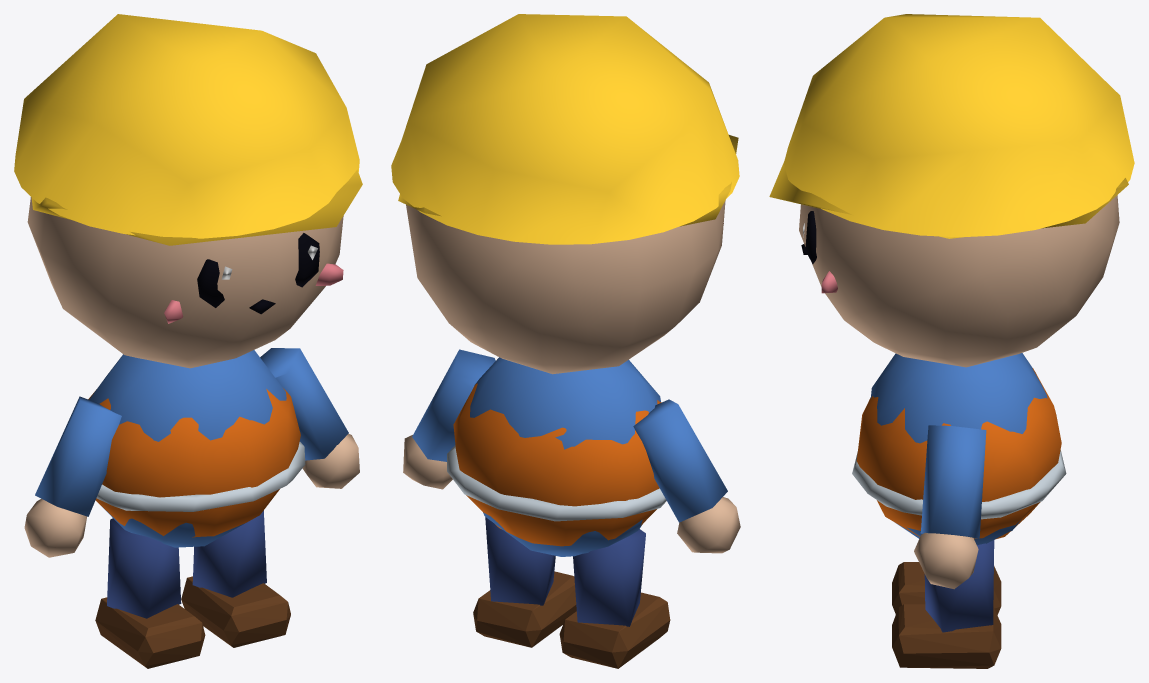
The model's file is worker-lod1.82e427fe.glb.
3 renders of one model, left to right at view 1: azimuth 30°, elevation 25°; view 2: azimuth 150°, elevation 25°; view 3: azimuth 270°, elevation 25°, orthographic.
Parts seen in each view (by area): view 1: Body__T_vcol, Hat__T_hat, Leg_R__T_vcol, Leg_L__T_vcol, Arm_R__T_vcol, Arm_L__T_vcol; view 2: Body__T_vcol, Hat__T_hat, Leg_R__T_vcol, Arm_R__T_vcol, Leg_L__T_vcol, Arm_L__T_vcol; view 3: Hat__T_hat, Body__T_vcol, Arm_L__T_vcol, Leg_L__T_vcol, Leg_R__T_vcol.
Boxes of the visible parts, x1,y1,x2,y2 form: Body__T_vcol: (27, 197, 343, 547); Hat__T_hat: (14, 14, 362, 245); Leg_R__T_vcol: (95, 518, 205, 668); Leg_L__T_vcol: (181, 510, 290, 647); Arm_R__T_vcol: (24, 396, 121, 557); Arm_L__T_vcol: (260, 348, 359, 488); Body__T_vcol: (406, 200, 725, 556); Hat__T_hat: (391, 14, 739, 244); Leg_R__T_vcol: (559, 529, 670, 668); Arm_R__T_vcol: (633, 399, 740, 553); Leg_L__T_vcol: (473, 517, 576, 647); Arm_L__T_vcol: (403, 349, 495, 489); Hat__T_hat: (769, 14, 1134, 238); Body__T_vcol: (799, 195, 1119, 544); Arm_L__T_vcol: (914, 425, 986, 589); Leg_L__T_vcol: (892, 540, 1001, 668); Leg_R__T_vcol: (892, 562, 1001, 615).
Bounding box in the file's own units: 0.7571 × 1.34 × 0.7289.
